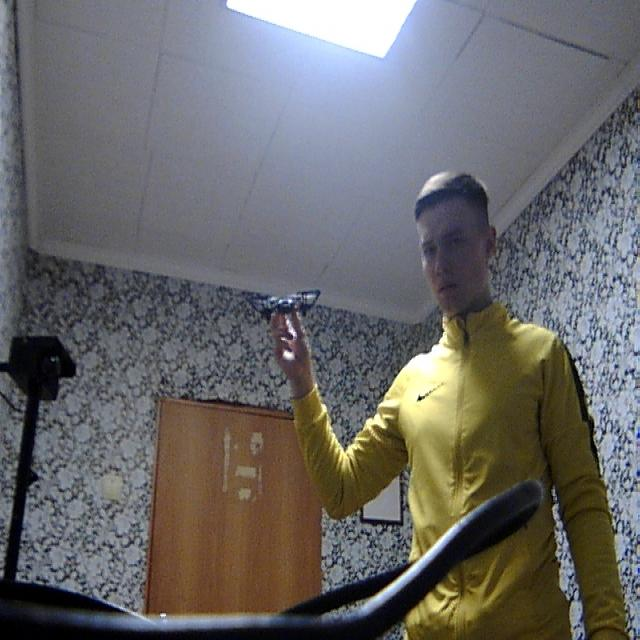drone: (234, 273, 326, 325)
